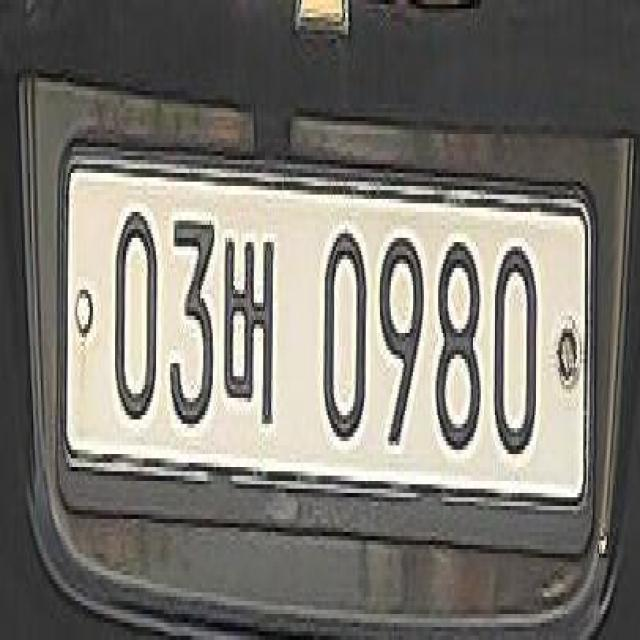illegal_plate: (59, 141, 605, 574)
